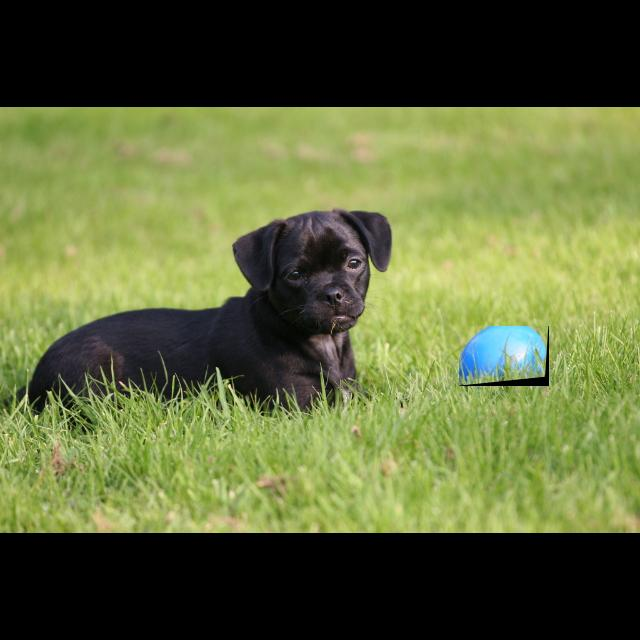Football: (459, 326, 549, 386)
